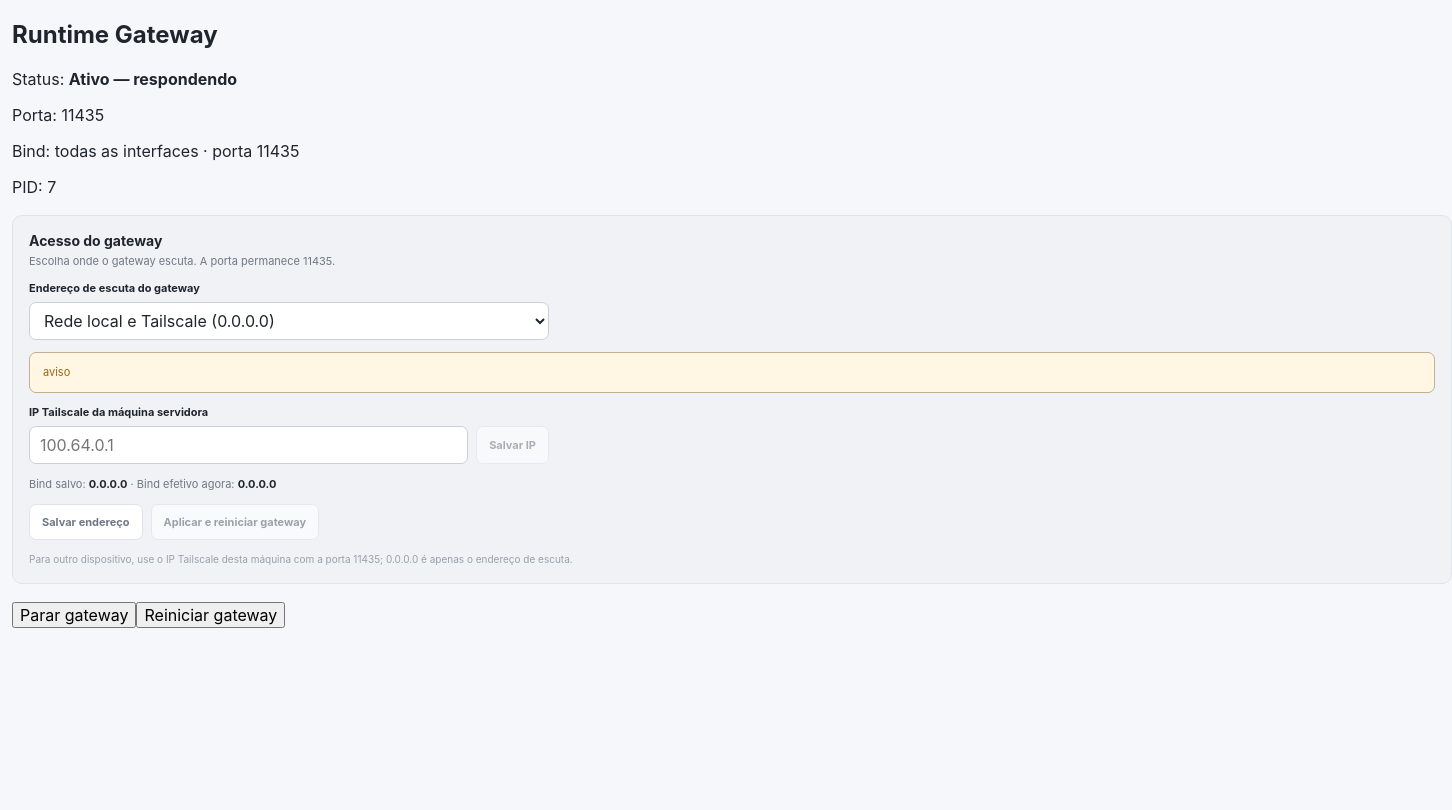
Test: GatewayControls › shows and persists the Tailscale IP inside gateway access
Type "100.87.71.48" into the field labelled "IP Tailscale da máquina servidora" at point(249, 445), box [29, 426, 468, 464]
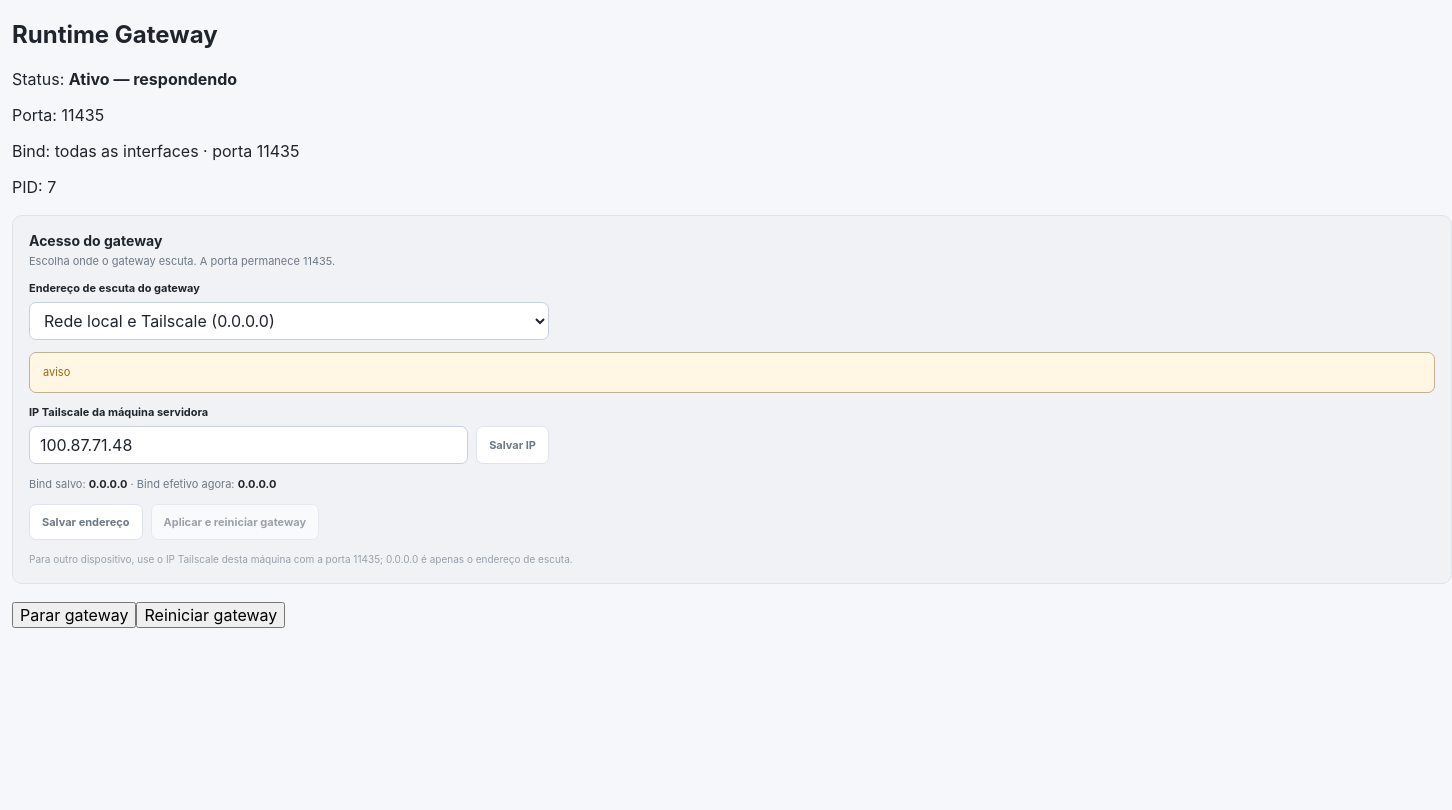
Click the button "Salvar IP" at point(513, 445), box [476, 426, 549, 464]
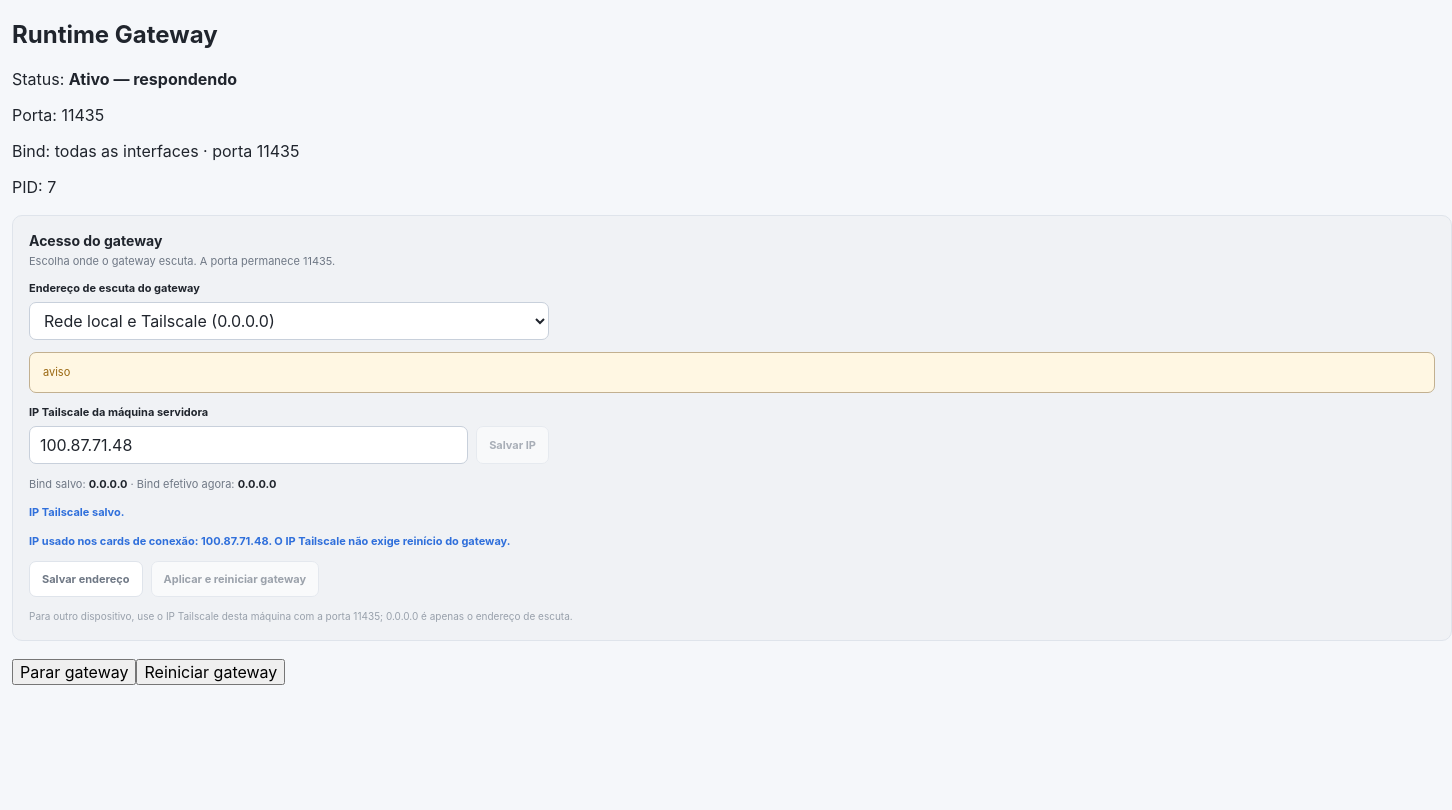
expect the text "IP Tailscale salvo." is shown: met, box [29, 505, 124, 519]
